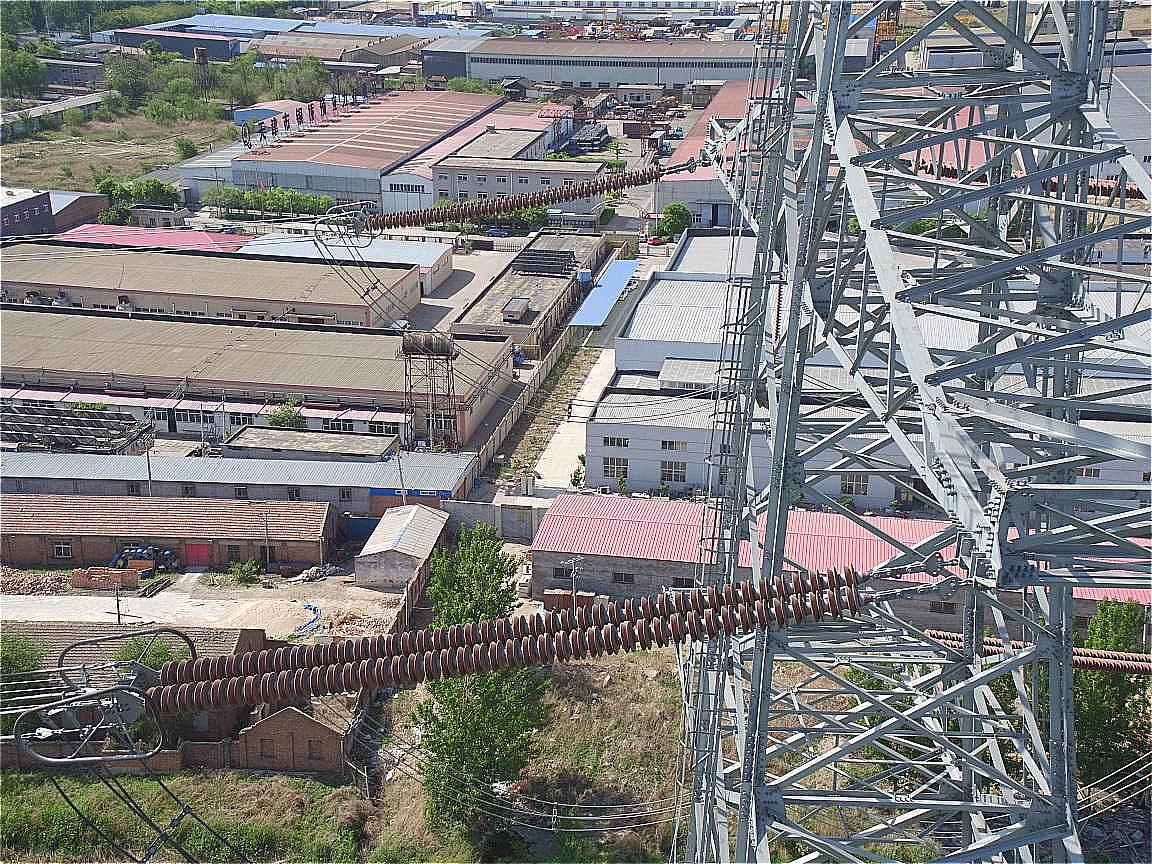insultor2: (103, 563, 885, 730), (348, 159, 658, 227)
